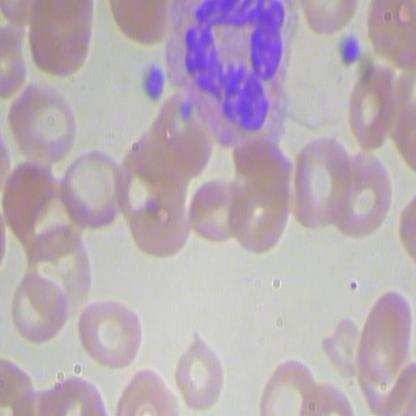Platelets: (337, 31, 365, 74), (141, 63, 166, 100)
RBC: (6, 77, 85, 168), (324, 149, 403, 240), (280, 138, 359, 229), (348, 288, 415, 394), (55, 144, 133, 235), (21, 1, 100, 81), (75, 299, 147, 370), (1, 276, 73, 347), (345, 59, 398, 149), (172, 327, 224, 413), (187, 176, 250, 246), (252, 354, 317, 415)
WBC: (163, 1, 298, 150)
